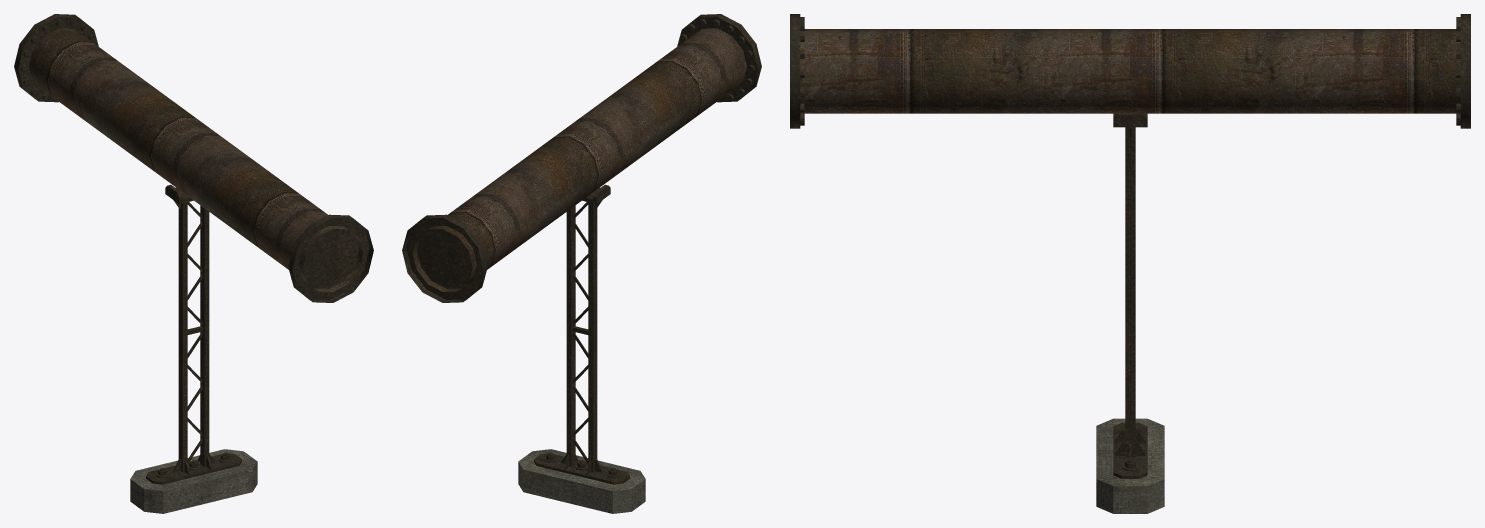
File: pipe_cx_1.glb
3 views of the same model, side by side, from view 1: azimuth 30°, elevation 25°; view 2: azimuth 150°, elevation 25°; view 3: azimuth 270°, elevation 25° (orthographic). The views are drawn at different scales.
Parts seen in each view (by area): view 1: pipe_cx_1; view 2: pipe_cx_1; view 3: pipe_cx_1.
Boxes of the visible parts, left/top/right/bottom form: pipe_cx_1: left=14, top=14, right=373, bottom=513; pipe_cx_1: left=402, top=14, right=761, bottom=513; pipe_cx_1: left=790, top=14, right=1470, bottom=513.
Size of the model in its own units: 0.94 by 2.99 by 4.
3 materials, 3 textured.
